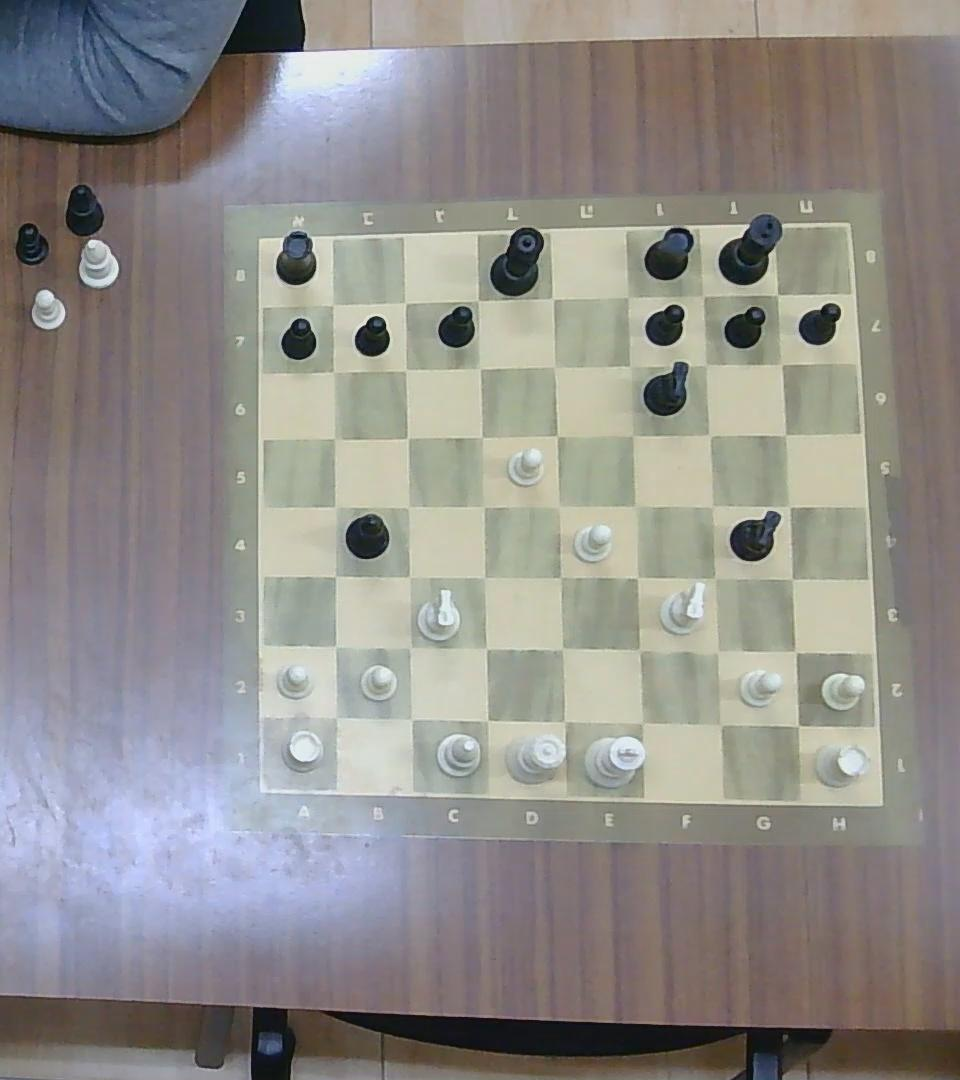xcorner: (702, 705, 736, 739), (624, 705, 658, 738), (701, 635, 734, 667), (624, 633, 656, 665), (546, 633, 578, 665), (781, 709, 813, 741), (621, 561, 652, 593), (470, 703, 501, 734), (470, 632, 501, 663), (548, 704, 578, 736), (395, 703, 425, 734), (320, 701, 350, 732), (780, 636, 811, 666), (545, 561, 574, 592), (394, 633, 424, 662), (320, 631, 350, 660), (699, 564, 728, 593), (394, 562, 423, 591), (470, 491, 498, 521), (470, 562, 498, 591), (545, 491, 573, 520), (320, 561, 349, 589), (617, 421, 646, 449), (776, 565, 806, 592), (621, 492, 651, 519), (543, 421, 571, 449), (615, 352, 644, 379), (467, 421, 495, 448), (540, 352, 567, 379), (774, 491, 802, 517), (395, 492, 421, 519), (699, 491, 726, 517), (318, 292, 345, 318), (319, 358, 345, 384), (540, 285, 566, 311), (394, 424, 420, 449), (696, 421, 722, 446), (321, 424, 347, 449), (323, 493, 349, 518), (615, 284, 641, 309), (465, 288, 491, 312), (693, 352, 718, 376), (467, 355, 491, 380), (768, 350, 793, 374), (393, 357, 417, 381), (691, 283, 714, 307), (766, 283, 790, 306), (392, 290, 415, 313), (773, 422, 797, 444)
